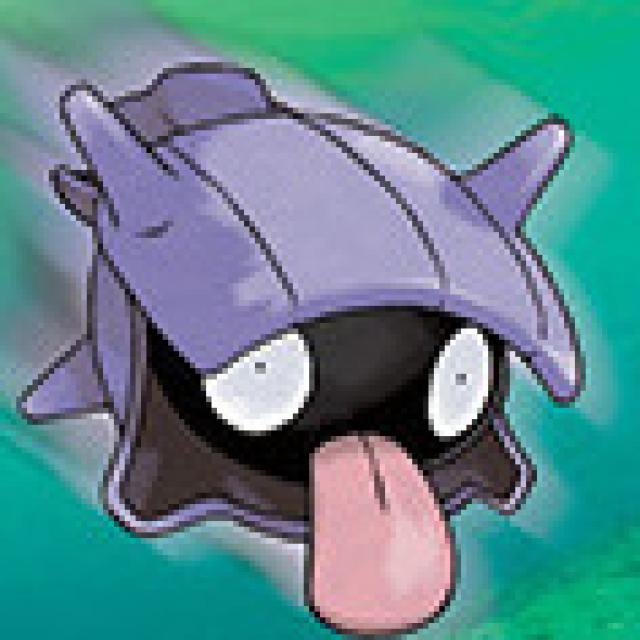Shellder: (63, 96, 580, 580)
